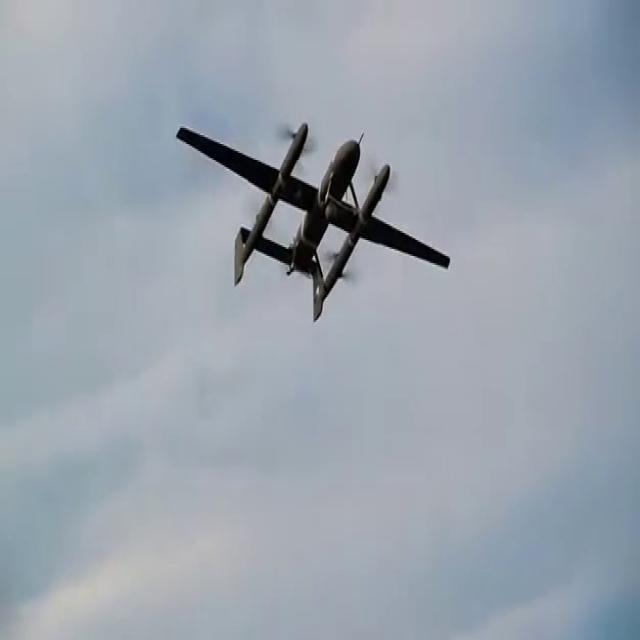iha: (174, 128, 453, 320)
